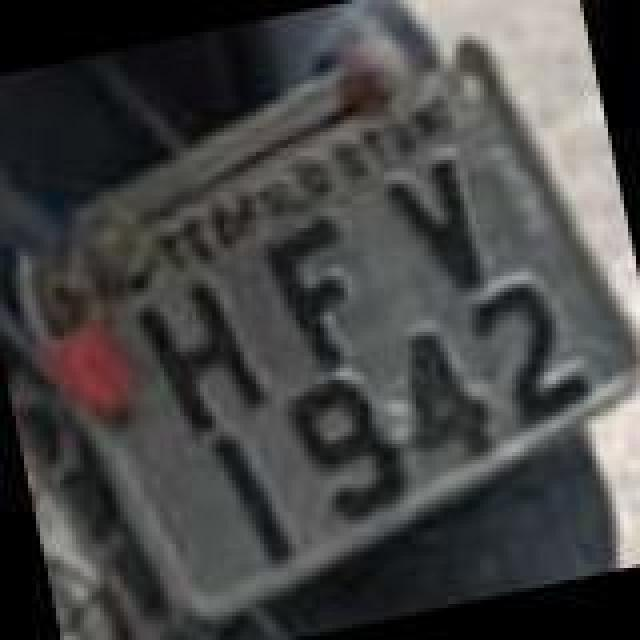1: (200, 422, 296, 570)
2: (458, 264, 598, 440)
4: (388, 314, 500, 470)
9: (274, 356, 414, 532)
F: (254, 204, 378, 380)
H: (134, 266, 274, 438)
V: (374, 148, 490, 300)
